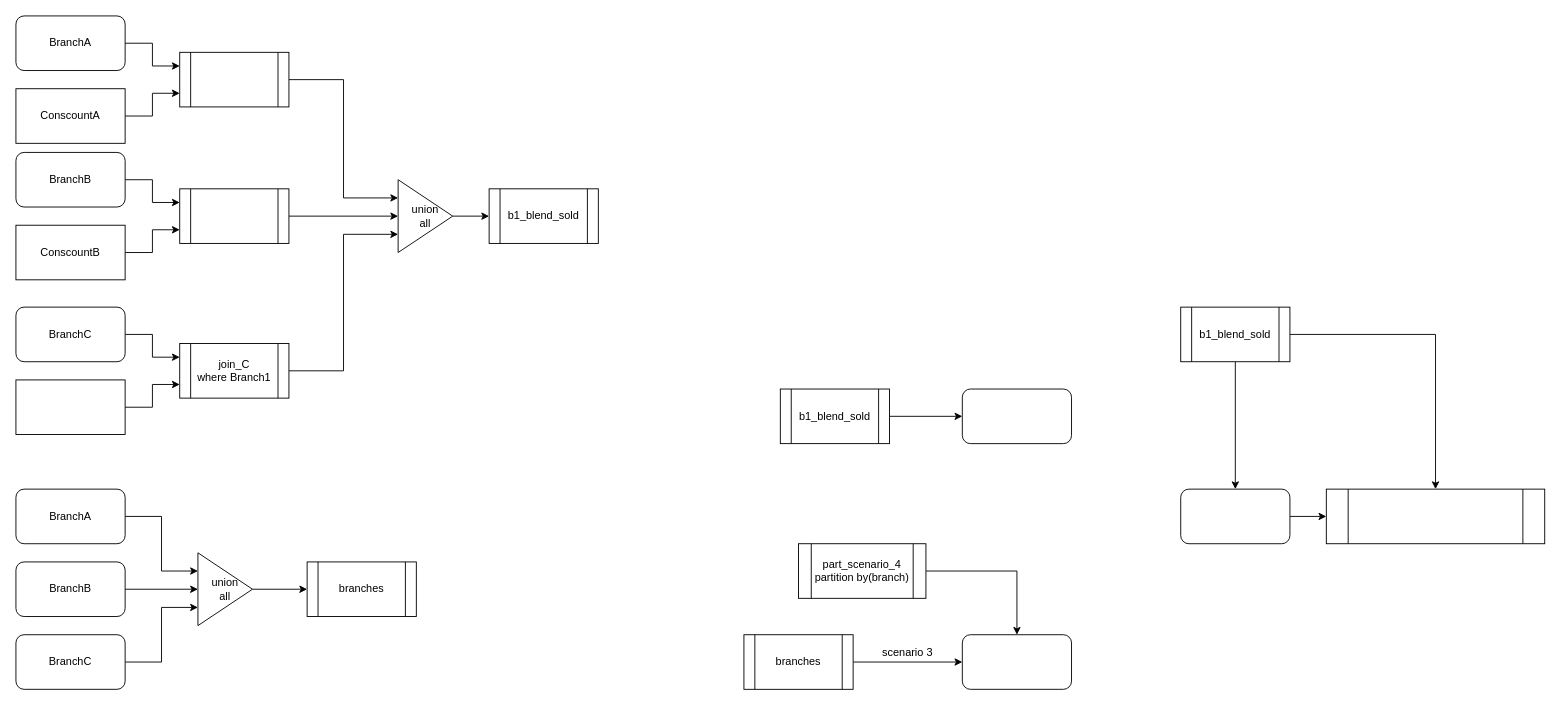
This 1561x705 diagram has some shape labels left out. Here are the shapes that lost their labels. From the top down, the centre of each, then its label:
At [234,79]: "join_A where Branch1".
At [234,215]: "join_B where Branch1".
At [70,407]: "ConscountC".
At [1016,416]: "min/max(total)".
At [1235,516]: "lim limit N".
At [1435,516]: "delete from b1_blend_sold where blend in max(blend) from lim".
At [1016,661]: "insert overwrite partition(branch)".
